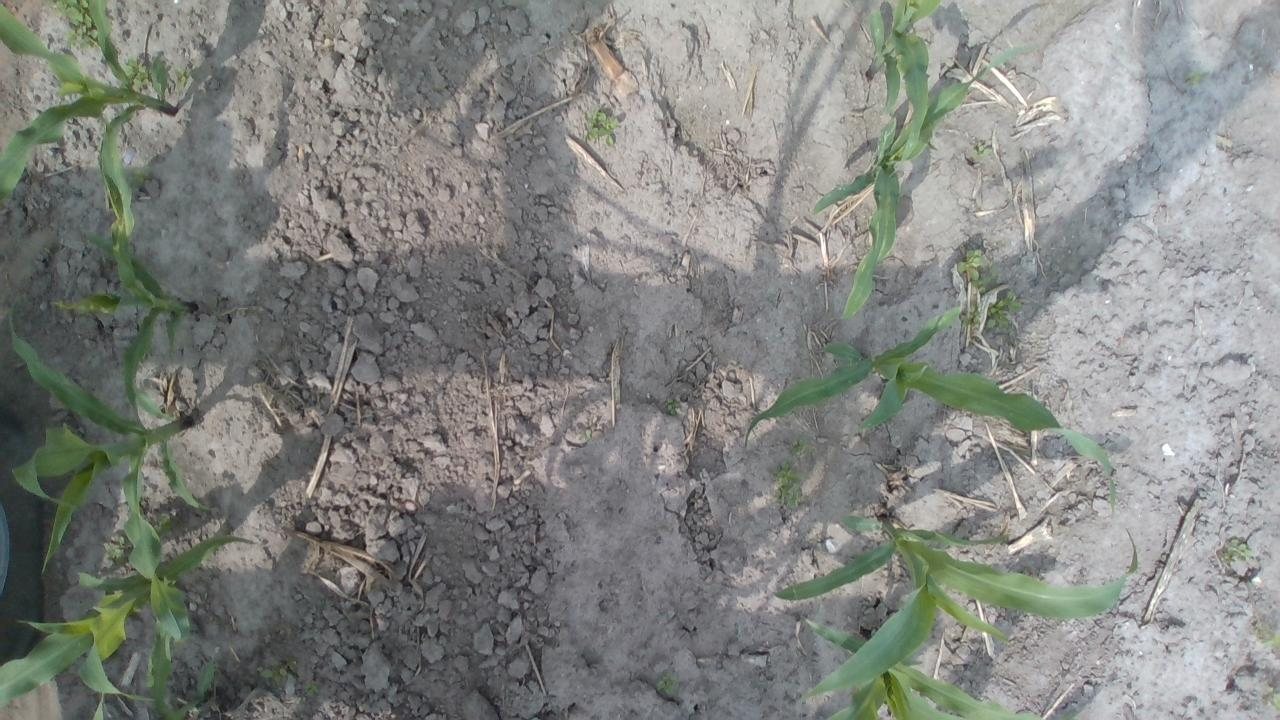Maize: (742, 303, 1120, 516), (1, 304, 212, 664), (772, 512, 1138, 698), (812, 44, 1044, 320), (0, 532, 257, 710), (0, 0, 178, 240), (52, 211, 194, 428), (800, 619, 1046, 720), (866, 0, 944, 165), (86, 633, 218, 720)
Weeds: (49, 0, 98, 48), (957, 248, 1001, 296), (583, 103, 619, 148), (770, 461, 803, 510), (985, 289, 1023, 329), (101, 532, 131, 572), (120, 55, 152, 88), (1220, 537, 1254, 563), (261, 658, 288, 688), (1254, 622, 1280, 649), (655, 671, 681, 696), (122, 166, 146, 191), (150, 512, 173, 537), (957, 306, 982, 328), (172, 64, 193, 88), (970, 144, 994, 160), (790, 438, 810, 456), (1264, 688, 1280, 710), (1183, 68, 1201, 86), (666, 398, 680, 416), (304, 682, 320, 697)
